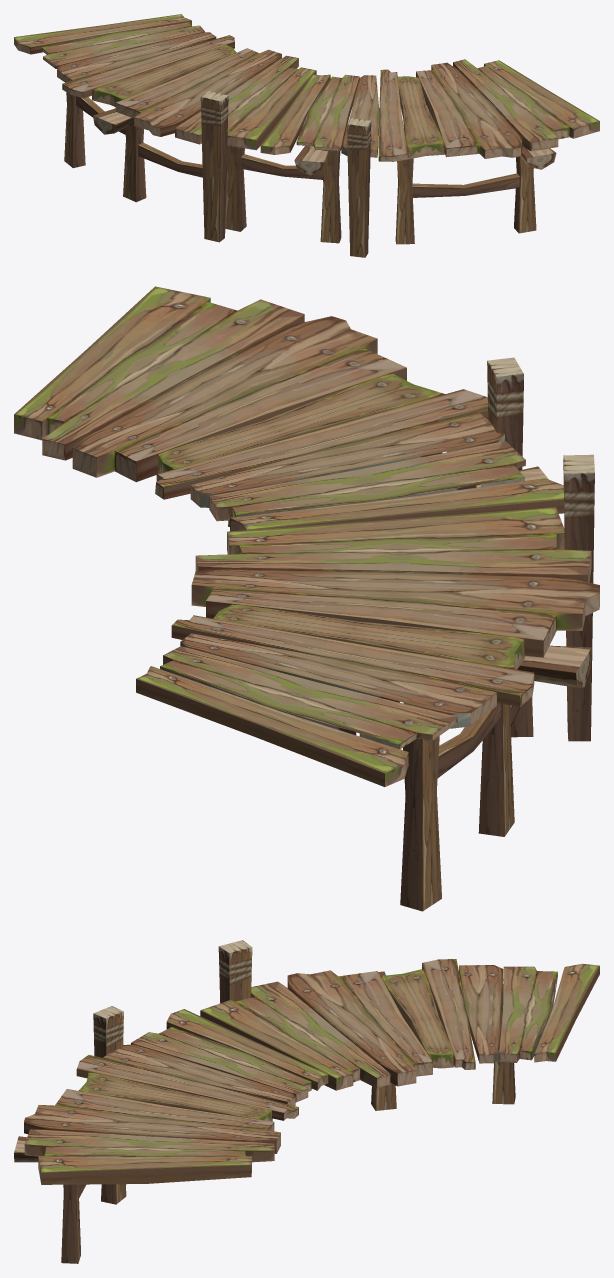
Rendered from Map_05_bridge03.FBX.
The picture shows the model from 3 angles, top to bottom: view 1: azimuth 30°, elevation 25°; view 2: azimuth 150°, elevation 25°; view 3: azimuth 270°, elevation 25°; orthographic projection. The views are drawn at different scales.
Parts seen in each view (by area): view 1: Map_05_bridge03; view 2: Map_05_bridge03; view 3: Map_05_bridge03.
Part boxes in pixels (box(x1,y1,x2,y2)): Map_05_bridge03: box(14, 14, 599, 257); Map_05_bridge03: box(14, 286, 599, 911); Map_05_bridge03: box(14, 940, 599, 1263).
Size of the model in its own units: 760 by 283 by 879.
Materials: 1 (1 with a texture image).
